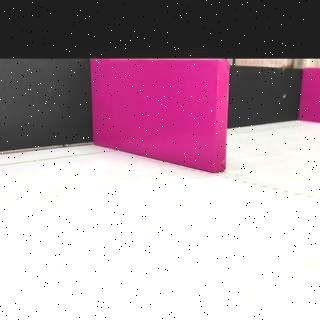xparking: (92, 61, 228, 163), (304, 67, 320, 120)
